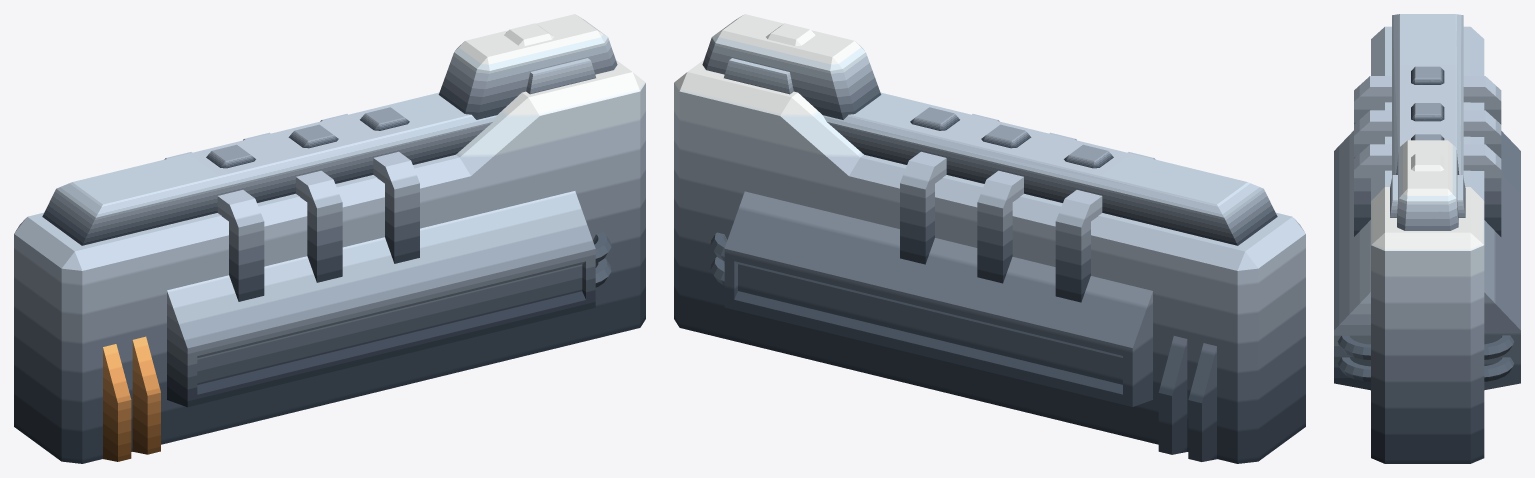
Rendered from wall.fbx.
3 renders of one model, left to right at view 1: azimuth 30°, elevation 25°; view 2: azimuth 150°, elevation 25°; view 3: azimuth 270°, elevation 25°, orthographic. The views are drawn at different scales.
Visible parts, largest first — view 1: wall; view 2: wall; view 3: wall.
Part boxes in pixels (x1=…): wall: x1=14, y1=14, x2=645, y2=463; wall: x1=674, y1=14, x2=1305, y2=463; wall: x1=1334, y1=14, x2=1520, y2=463.
Bounding box in the file's own units: 60.46 × 29.03 × 18.58.
